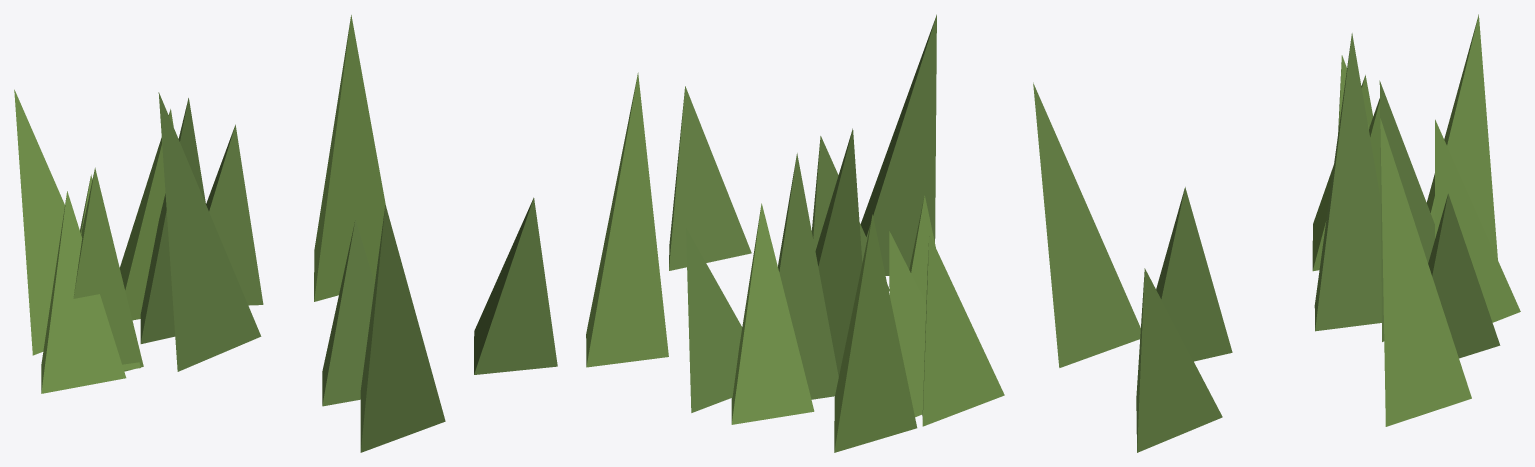
Rendered from cover_grass_c.glb.
3 views of the same model, side by side, from view 1: azimuth 30°, elevation 25°; view 2: azimuth 150°, elevation 25°; view 3: azimuth 270°, elevation 25° (orthographic). The views are drawn at different scales.
Visible parts, largest first — view 1: cover_grass_c; view 2: cover_grass_c; view 3: cover_grass_c.
Boxes of the visible parts, <box> form: cover_grass_c: <box>14,15,557,452</box>; cover_grass_c: <box>586,14,1004,452</box>; cover_grass_c: <box>1033,14,1520,452</box>.
Size of the model in its own units: 0.5257 by 0.3366 by 0.5063.
